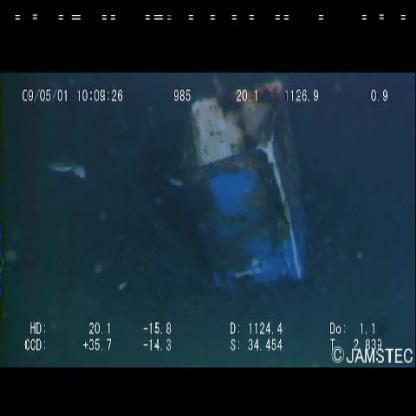Rác: (171, 93, 306, 306)
